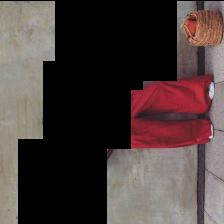red: (110, 75, 210, 146)
